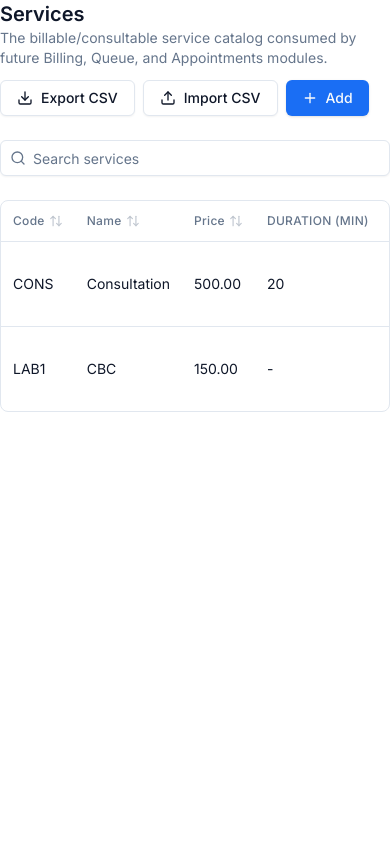
Scenario: ServicesPage - Department assignment › the create/edit form's Department field lists the clinic's active departments plus Unassigned, with no invented default
expect the text "Consultation" is shown: met, box [75,241,182,326]
Click the button "Add": [327, 98] box [286,80,369,116]
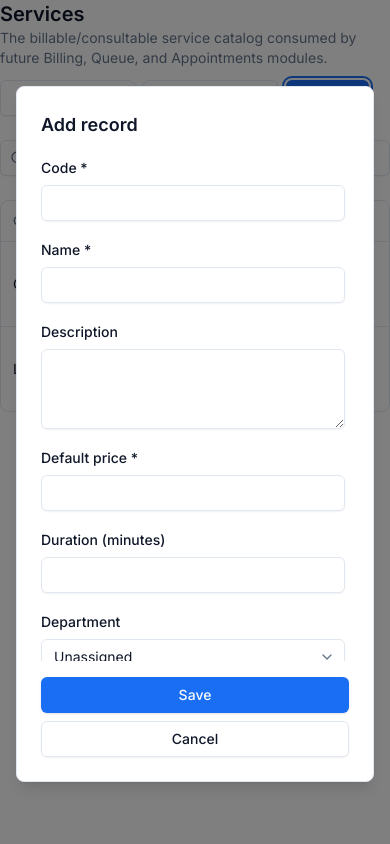
expect the dropdown labelled "Department" shows "Unassigned": met, box [41,639,345,661]
